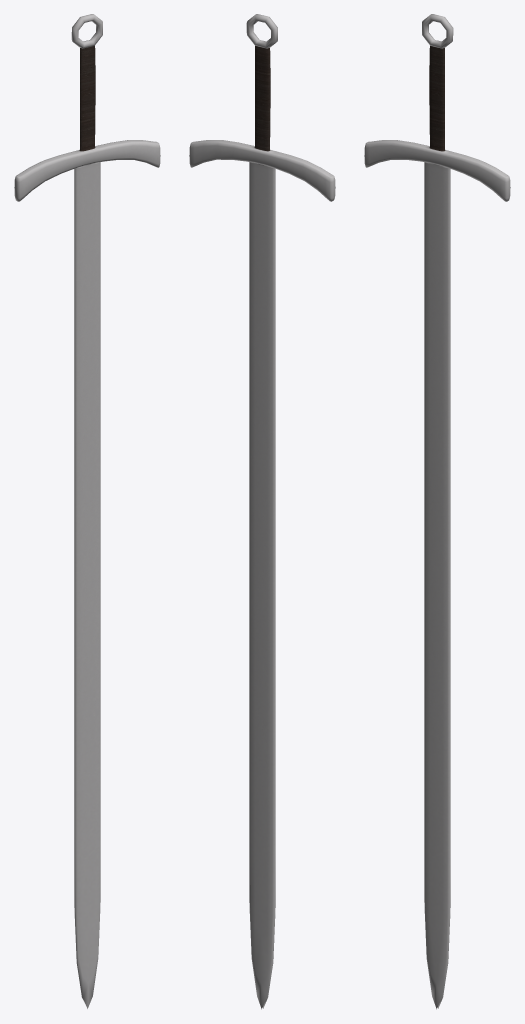
The model's file is MedievalSword_Texturized (3).fbx.
The picture shows the model from 3 angles, left to right: view 1: azimuth 30°, elevation 25°; view 2: azimuth 150°, elevation 25°; view 3: azimuth 330°, elevation 25°; orthographic projection.
Visible parts, largest first — view 1: MedievalSword, Torus.002; view 2: MedievalSword, Torus.002; view 3: MedievalSword, Torus.002.
Part boxes in pixels (bbox=[...]): MedievalSword: bbox=[14, 46, 160, 1008]; Torus.002: bbox=[71, 14, 102, 48]; MedievalSword: bbox=[189, 46, 335, 1009]; Torus.002: bbox=[246, 14, 277, 48]; MedievalSword: bbox=[364, 46, 510, 1009]; Torus.002: bbox=[422, 14, 453, 48].
Size of the model in its own units: 17.75 by 117 by 1.12.
